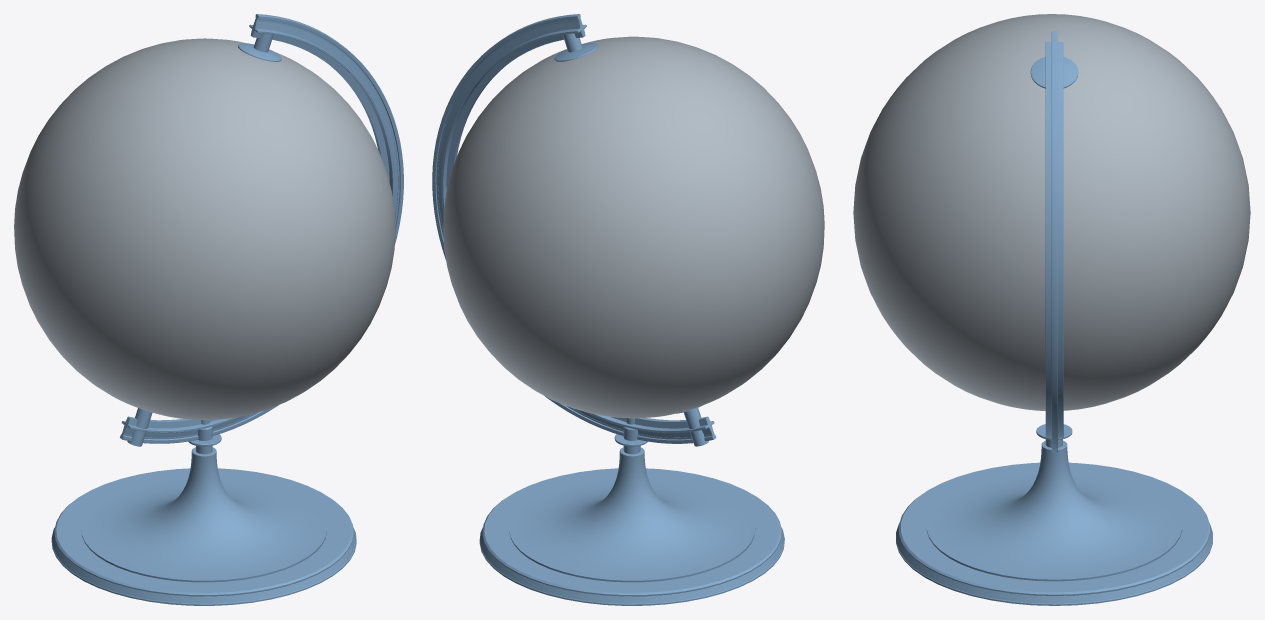
File: map.glb
3 renders of one model, left to right at view 1: azimuth 30°, elevation 25°; view 2: azimuth 150°, elevation 25°; view 3: azimuth 270°, elevation 25°, orthographic. The views are drawn at different scales.
Visible parts, largest first — view 1: Globe_Icon; view 2: Globe_Icon; view 3: Globe_Icon.
Boxes of the visible parts, box(x1,y1,x2,y2) form: Globe_Icon: box(14, 14, 403, 605); Globe_Icon: box(432, 14, 824, 605); Globe_Icon: box(853, 14, 1250, 605).
Size of the model in its own units: 0.6272 by 0.8447 by 0.5691.
